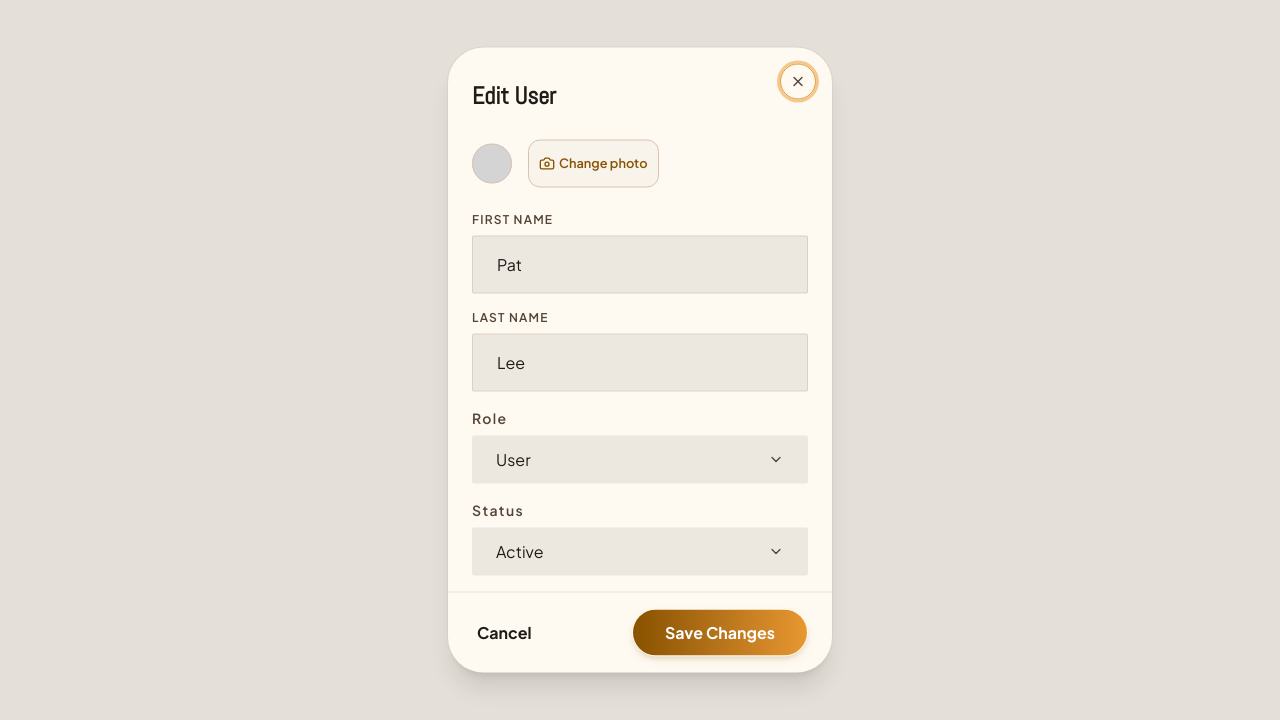
Test: EditUserForm › shows a required error and does not submit when first name is cleared
Step 1. Clear the field labelled "First Name" → (640, 264), box [472,236,808,294]
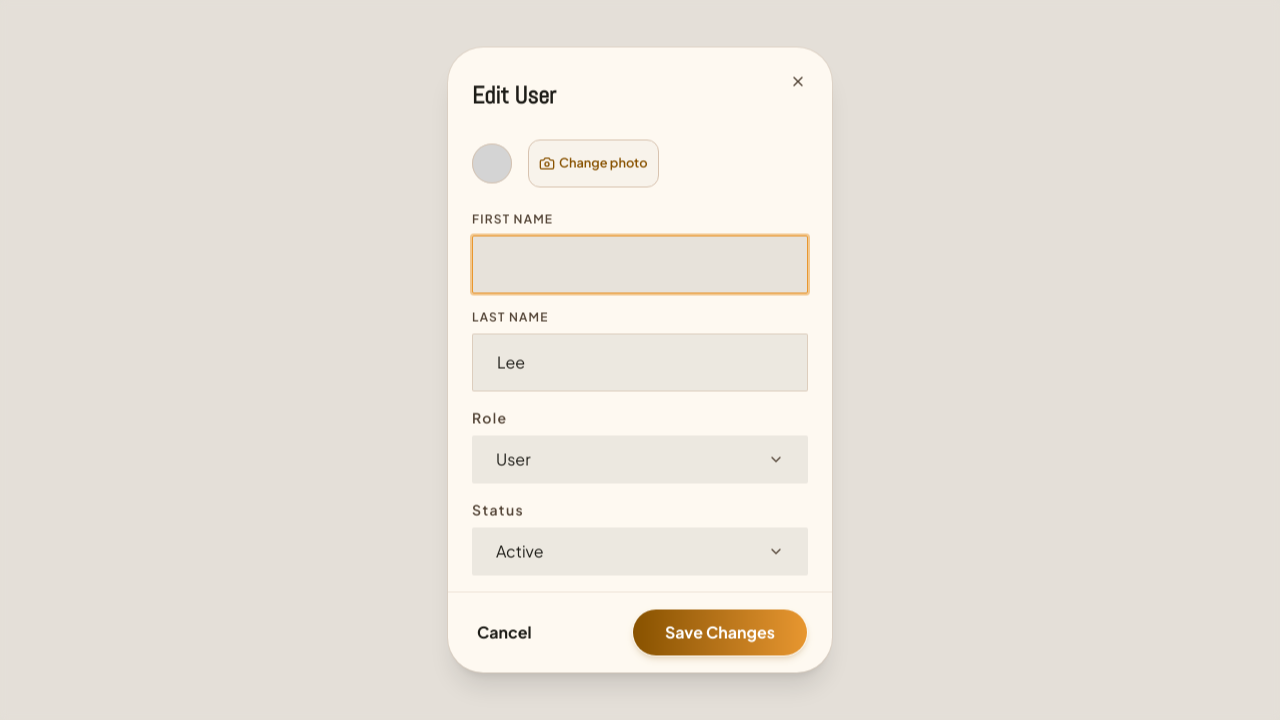
Step 2. Click the button "Save Changes" → (720, 632), box [632,608,808,656]
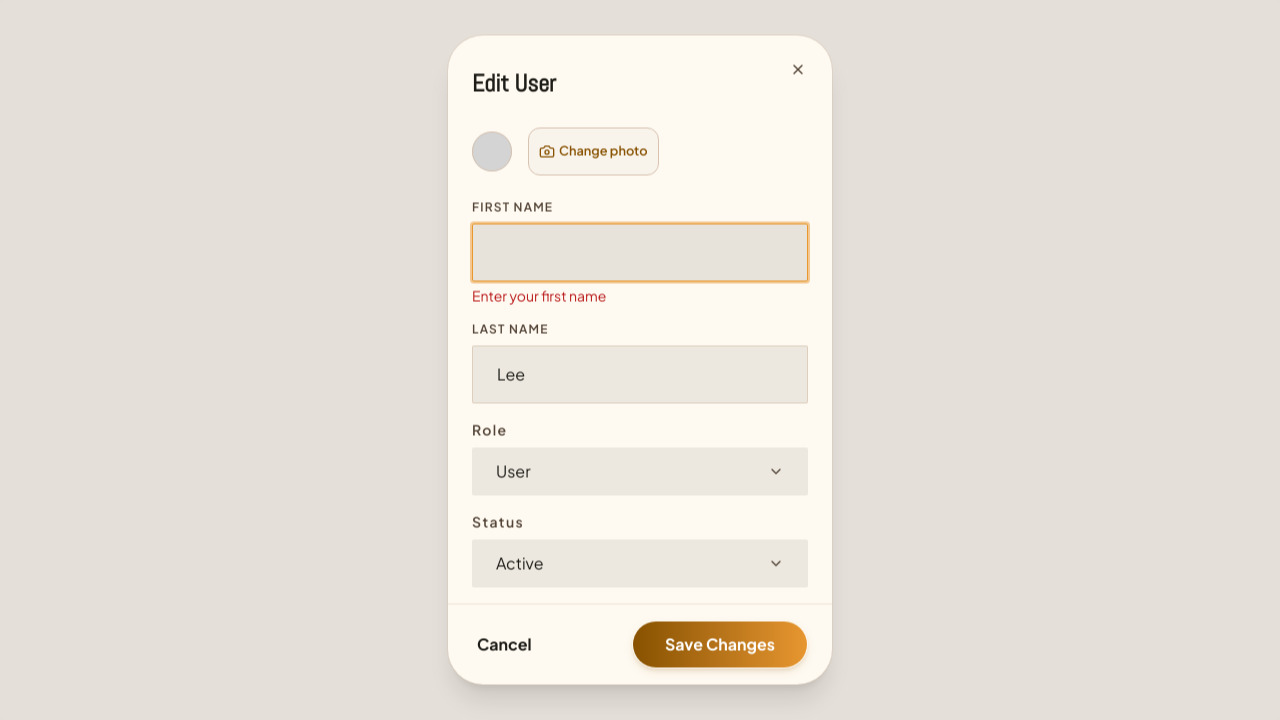
Now the text "Enter your first name" is shown, box [472,286,606,304]
